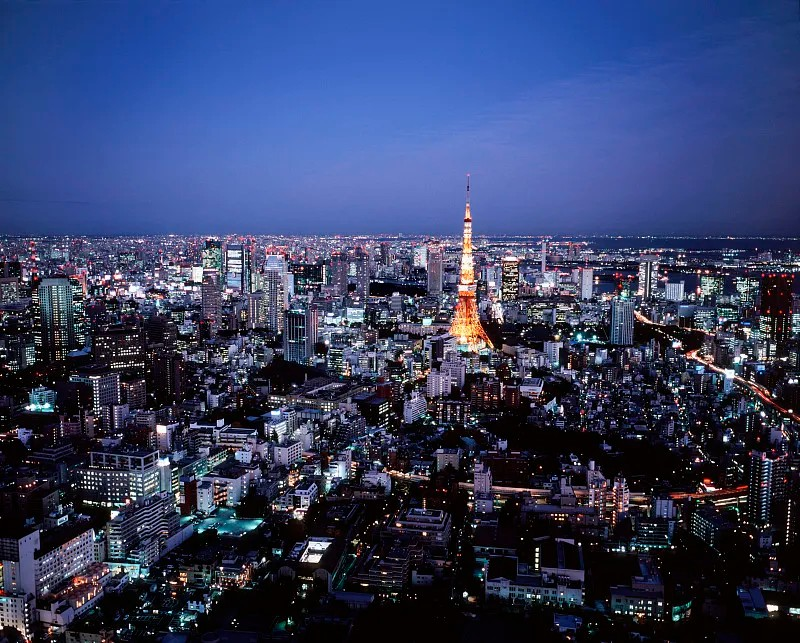Tokyo: (447, 173, 494, 353)
